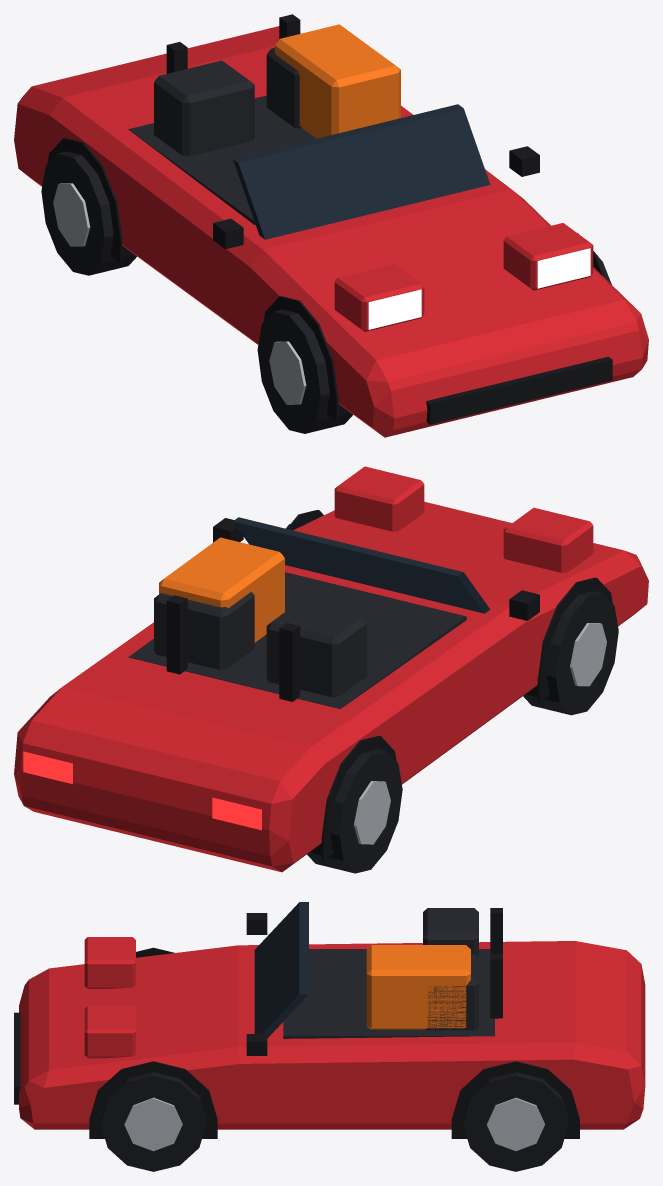
The model's file is roadster.glb.
The picture shows the model from 3 angles, top to bottom: view 1: azimuth 30°, elevation 25°; view 2: azimuth 150°, elevation 25°; view 3: azimuth 270°, elevation 25°; orthographic projection. The views are drawn at different scales.
Visible parts, largest first — view 1: tub, windscreen, bag, seat_-1, wheel_RL, wheel_FL, cockpit, grin, popup_1, popup_-1, seat_1, wheel_RL_hub (+8 smaller); view 2: tub, cockpit, windscreen, bag, seat_-1, wheel_RL, wheel_FL, seat_1, popup_1, popup_-1, wheel_RL_hub, wheel_FL_hub (+7 smaller); view 3: tub, bag, cockpit, wheel_FR, wheel_RR, windscreen, popup_1, popup_-1, arch_-1.1_1, arch_+1.1_1, wheel_RR_hub, wheel_FR_hub (+7 smaller).
Boxes of the visible parts, x1,y1,x2,y2 form: tub: (14,26,648,437); windscreen: (233,104,490,239); bag: (275,24,400,138); seat_-1: (154,60,254,156); wheel_RL: (41,151,136,275); wheel_FL: (257,309,352,433); cockpit: (128,95,316,224); grin: (426,356,612,424); popup_1: (503,223,593,290); popup_-1: (334,264,424,331); seat_1: (266,47,302,128); wheel_RL_hub: (53,183,90,246); tub: (14,501,648,872); cockpit: (128,572,466,708); windscreen: (233,517,489,613); bag: (159,537,284,642); seat_-1: (266,601,367,697); wheel_RL: (307,749,402,873); wheel_FL: (523,591,618,715); seat_1: (154,591,254,669); popup_1: (334,466,424,531); popup_-1: (503,507,593,572); wheel_RL_hub: (354,781,390,844); wheel_FL_hub: (570,623,606,686); tub: (19,941,645,1129); bag: (366,945,470,1029); cockpit: (283,949,494,1038); wheel_FR: (100,1072,206,1171); wheel_RR: (463,1072,568,1171); windscreen: (254,902,308,1038); popup_1: (84,1006,135,1058); popup_-1: (84,937,135,988); arch_-1.1_1: (451,1061,579,1138); arch_+1.1_1: (89,1061,217,1138); wheel_RR_hub: (486,1097,544,1151); wheel_FR_hub: (124,1097,182,1151).
Bounding box in the file's own units: 1.9 × 1.22 × 3.96.
